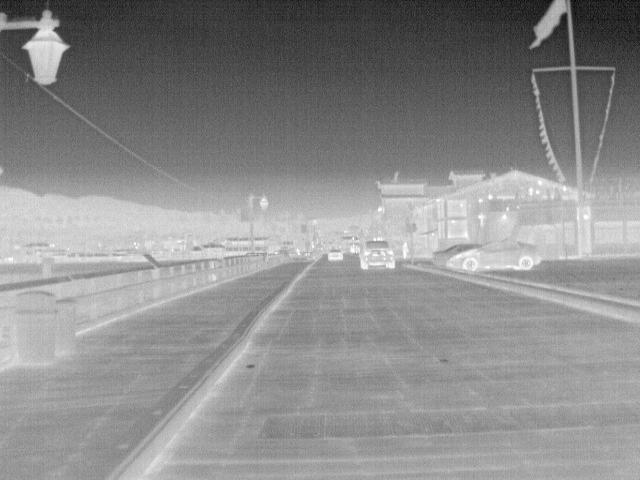car: (442, 237, 543, 271), (431, 243, 487, 269), (358, 237, 398, 272), (325, 246, 346, 260)
person: (401, 240, 410, 259)
